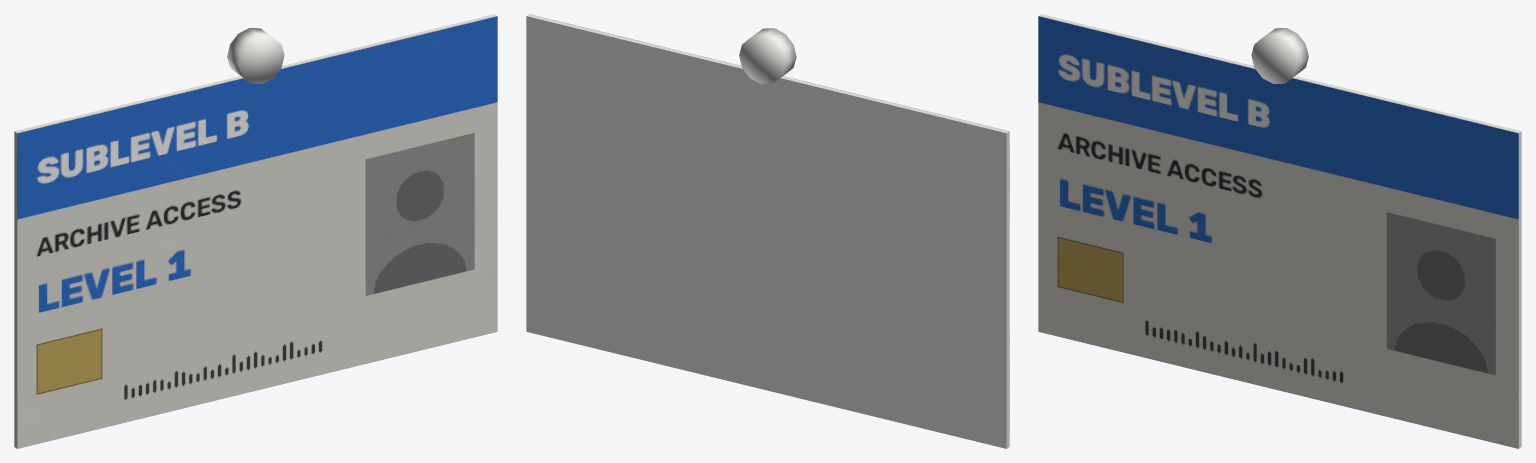
The model's file is ep-keycard-blue.glb.
3 views of the same model, side by side, from view 1: azimuth 30°, elevation 25°; view 2: azimuth 150°, elevation 25°; view 3: azimuth 330°, elevation 25° (orthographic).
Visible parts, largest first — view 1: Keycard_blue; view 2: Keycard_blue; view 3: Keycard_blue.
Boxes of the visible parts, <box> form: Keycard_blue: <box>14,14,497,448</box>; Keycard_blue: <box>526,14,1009,448</box>; Keycard_blue: <box>1038,14,1521,448</box>.
Bounding box in the file's own units: 0.086 × 0.061 × 0.004.
Materials: 2 (1 with a texture image).
